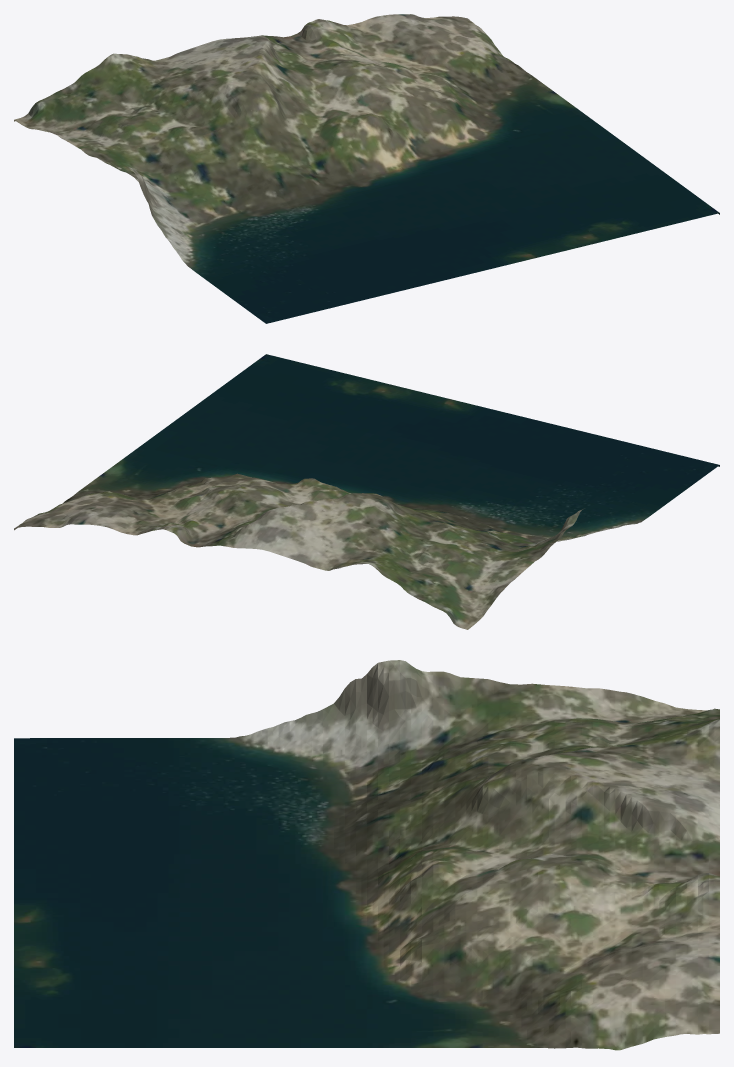
The picture shows the model from 3 angles, top to bottom: view 1: azimuth 30°, elevation 25°; view 2: azimuth 150°, elevation 25°; view 3: azimuth 270°, elevation 25°; orthographic projection. The views are drawn at different scales.
Bounding box in the file's own units: 250 × 36.54 × 241.
1 material, 1 textured.
